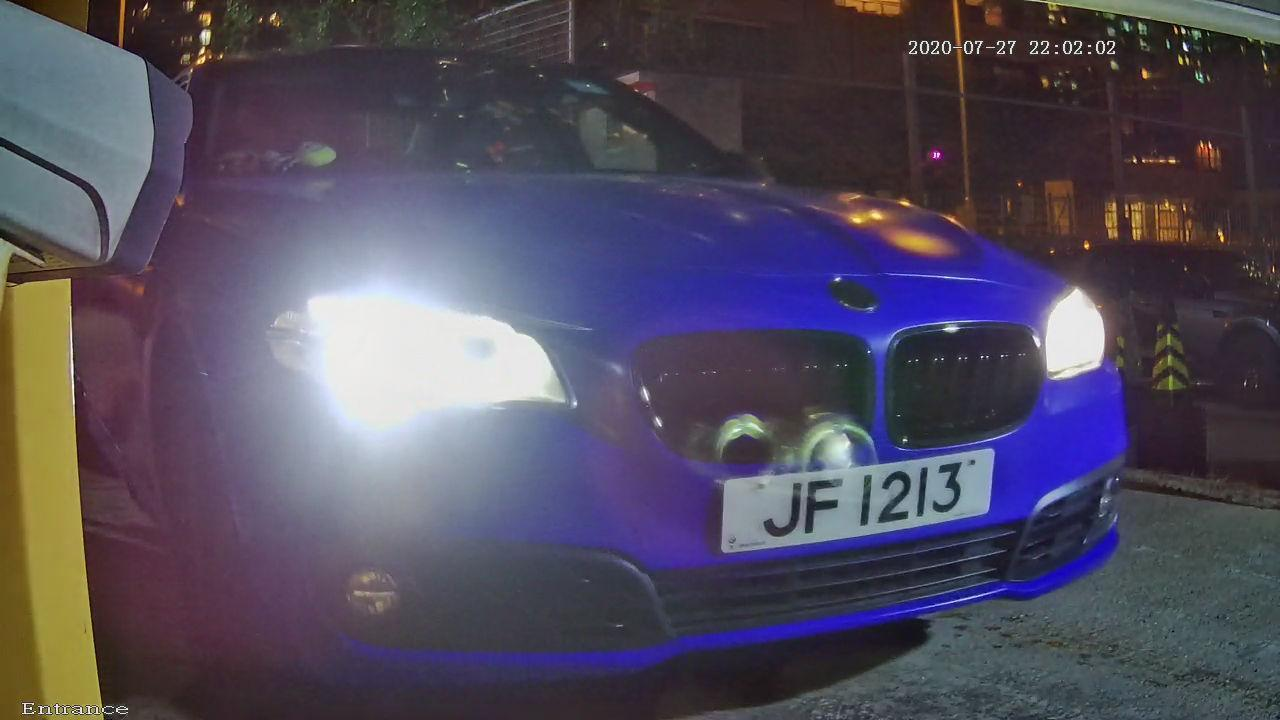privatecar: (81, 1, 1178, 717)
